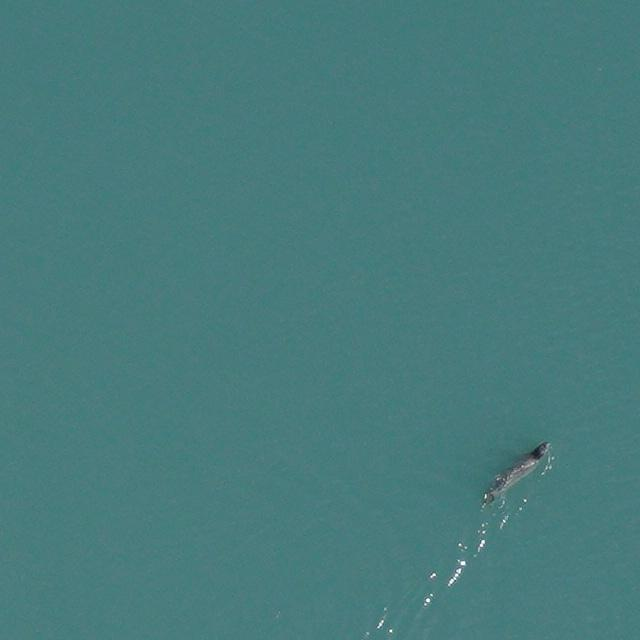seal: (476, 439, 556, 507)
